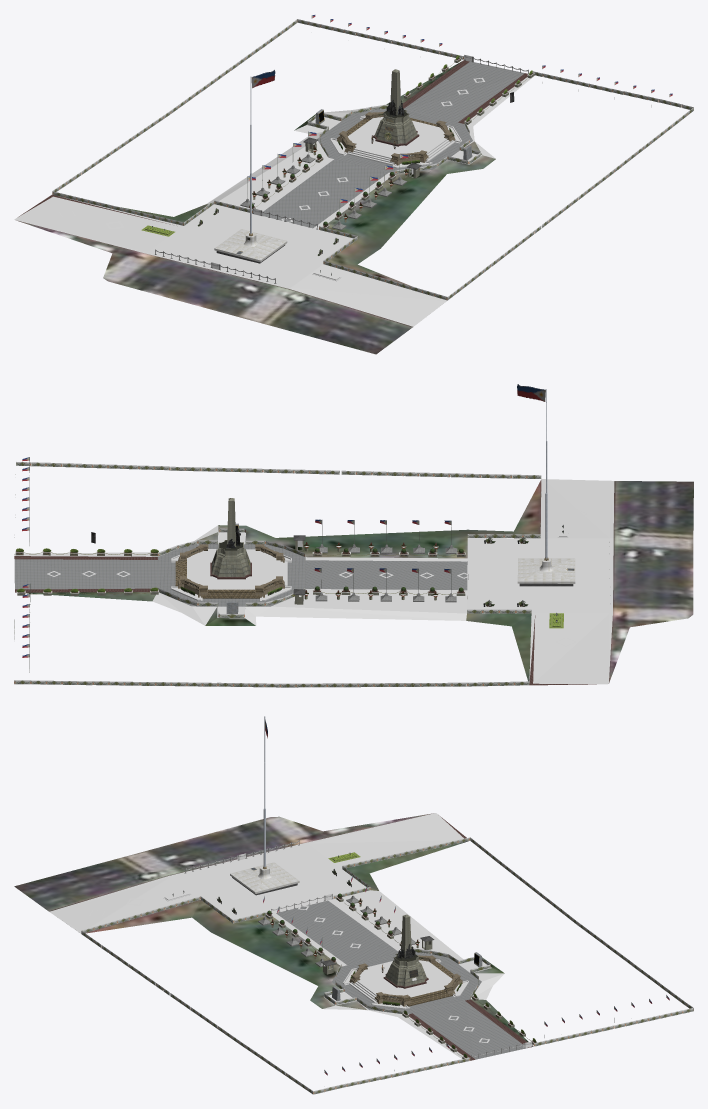
Rendered from luneta park.fbx.
3 renders of one model, top to bottom at view 1: azimuth 30°, elevation 25°; view 2: azimuth 150°, elevation 25°; view 3: azimuth 270°, elevation 25°, orthographic. The views are drawn at different scales.
Parts seen in each view (by area): view 1: _C-Dr. Jose Rizal Monument - Rizal Park "Luneta" Collection , G-Object.005; view 2: _C-Dr. Jose Rizal Monument - Rizal Park "Luneta" Collection , G-Object.005, C-Component#1.003; view 3: _C-Dr. Jose Rizal Monument - Rizal Park "Luneta" Collection , G-Object.005.
Part boxes in pixels (x1,y1,x2,y2): _C-Dr. Jose Rizal Monument - Rizal Park "Luneta" Collection : (14,60,534,354); G-Object.005: (214,229,287,263); _C-Dr. Jose Rizal Monument - Rizal Park "Luneta" Collection : (14,479,693,685); G-Object.005: (517,558,575,586); C-Component#1.003: (216,549,246,576); _C-Dr. Jose Rizal Monument - Rizal Park "Luneta" Collection : (14,813,532,1060); G-Object.005: (230,862,299,895).
Size of the model in its own units: 13312 by 3732 by 13315.
Materials: 55 (51 with a texture image).
